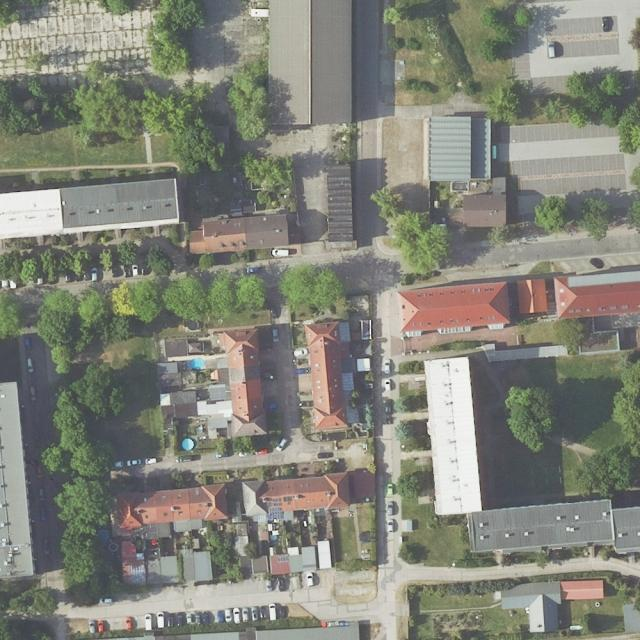PV: (266, 498, 284, 521), (129, 565, 145, 584)
ST: (277, 555, 288, 563)
